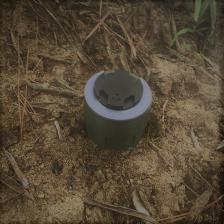M14: (82, 69, 153, 150)
